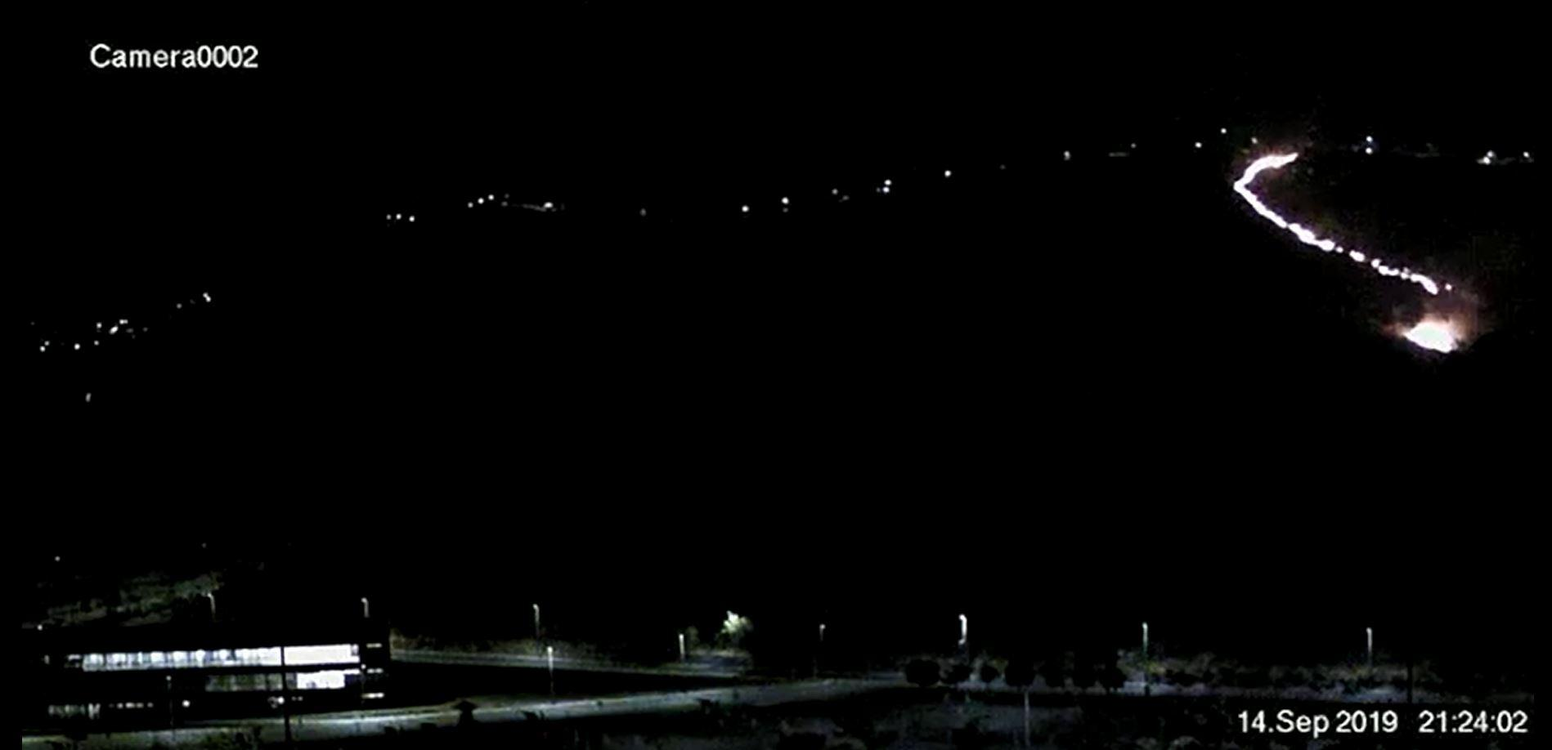fire: (1210, 147, 1454, 293), (1388, 298, 1486, 358)
